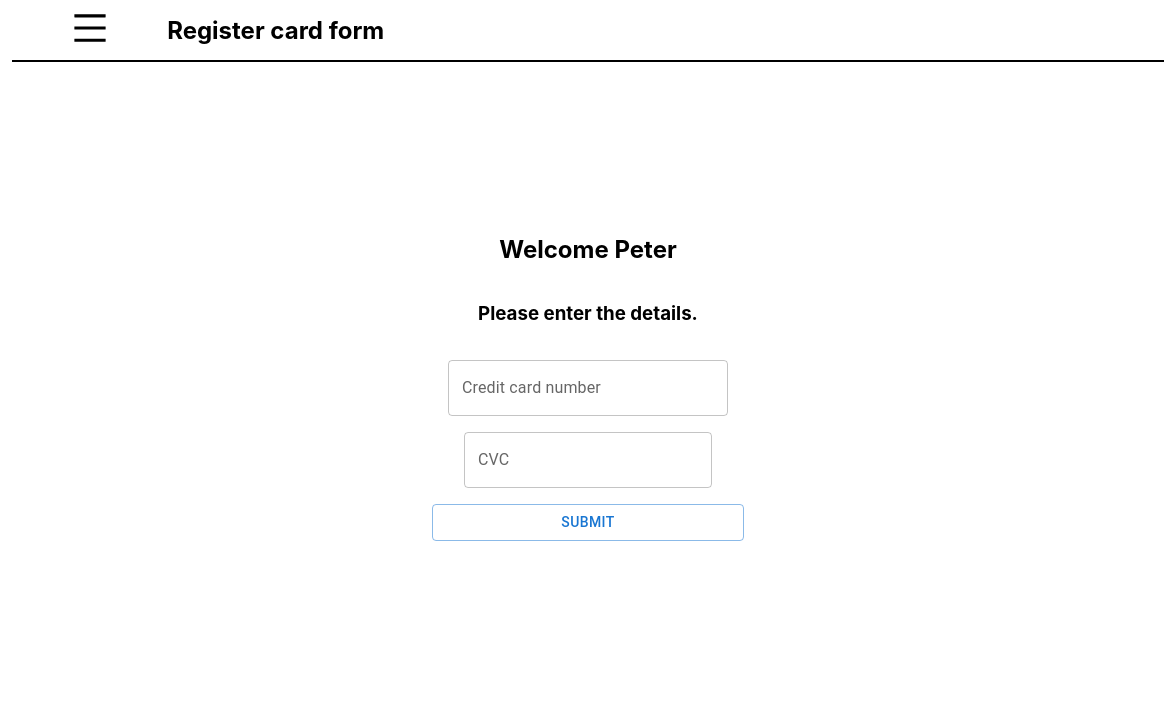
Test case: toggle page content on menu button click
Expected: the heading "Welcome Peter" is shown, [499,235,677,264]
Click the element with test id "menu-button" at point(90, 30), box [70,8,110,52]
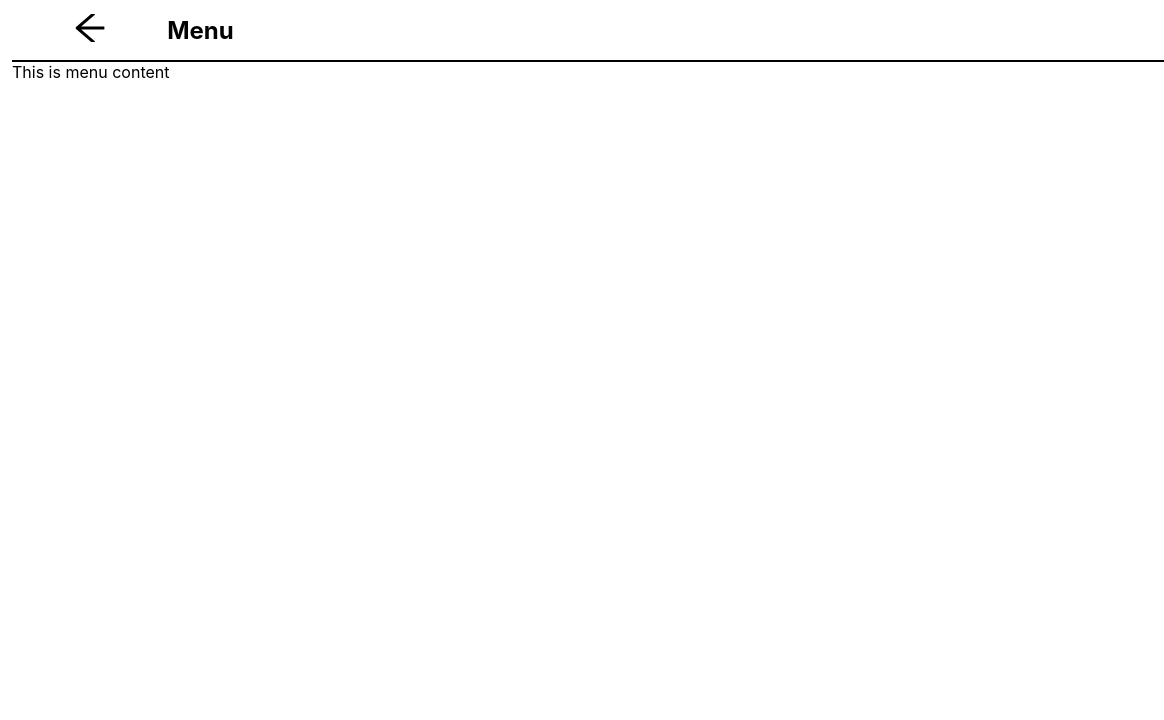
Expected: the text "This is menu content" is shown, [12,62,170,82]
